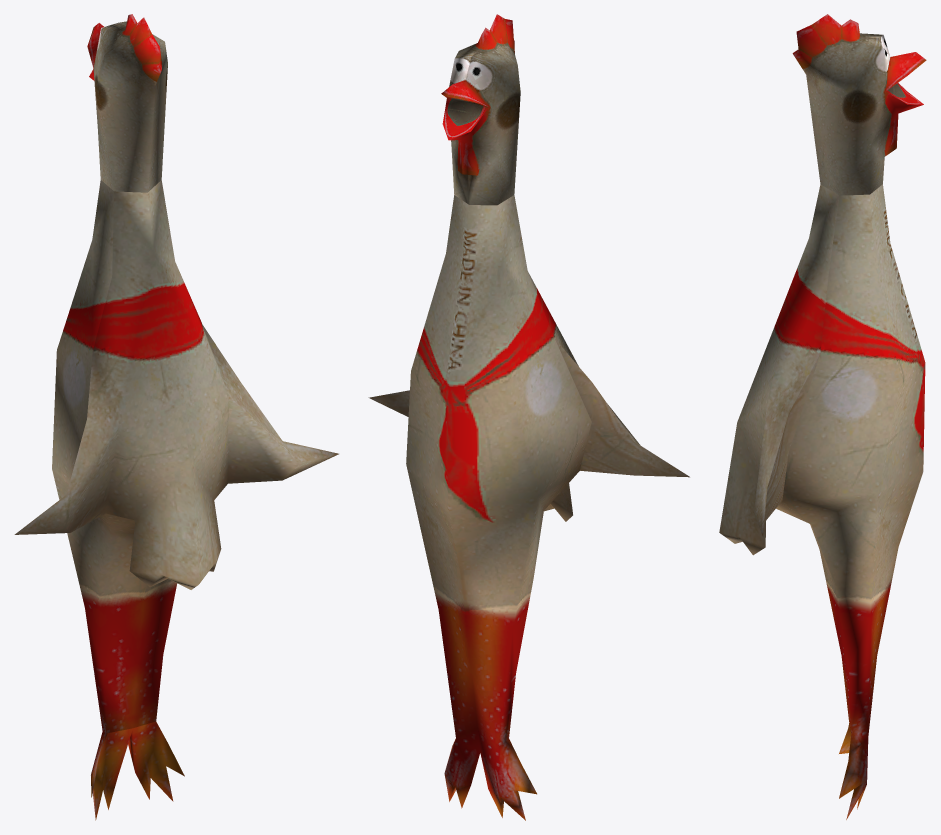
File: Melee_Prop_Screaming_Chicken_LOD_(000765).glb
3 renders of one model, left to right at view 1: azimuth 30°, elevation 25°; view 2: azimuth 150°, elevation 25°; view 3: azimuth 270°, elevation 25°, orthographic.
Visible parts, largest first — view 1: CJJ_LOD1; view 2: CJJ_LOD1; view 3: CJJ_LOD1.
Part boxes in pixels (x1,y1,x2,y2): CJJ_LOD1: [14, 14, 338, 820]; CJJ_LOD1: [368, 14, 689, 820]; CJJ_LOD1: [719, 14, 926, 819].
Bounding box in the file's own units: 0.3275 × 0.769 × 0.1834.
Materials: 1 (1 with a texture image).
